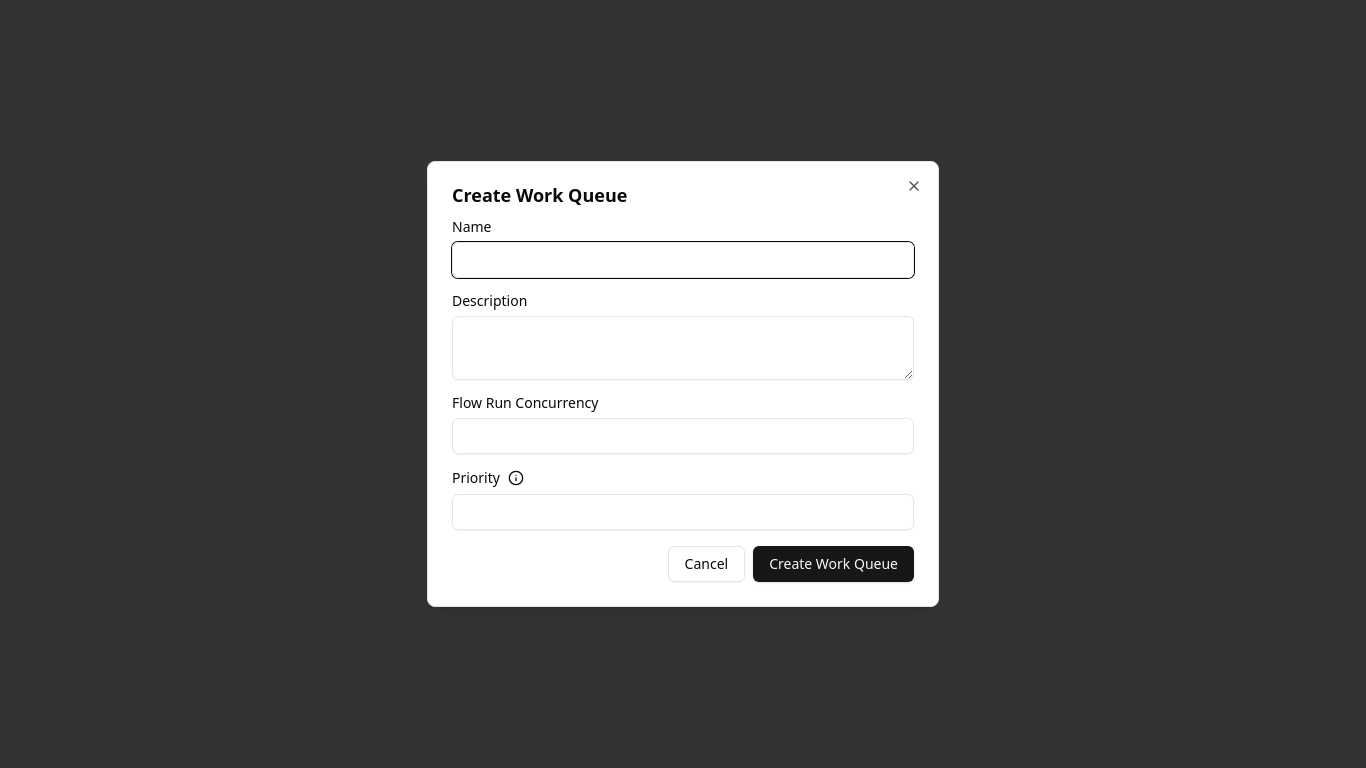
Test: WorkPoolQueueCreateDialog › shows validation error for empty name
Click the button "Create Work Queue".
click(834, 564)  # box 753,546 -> 914,582
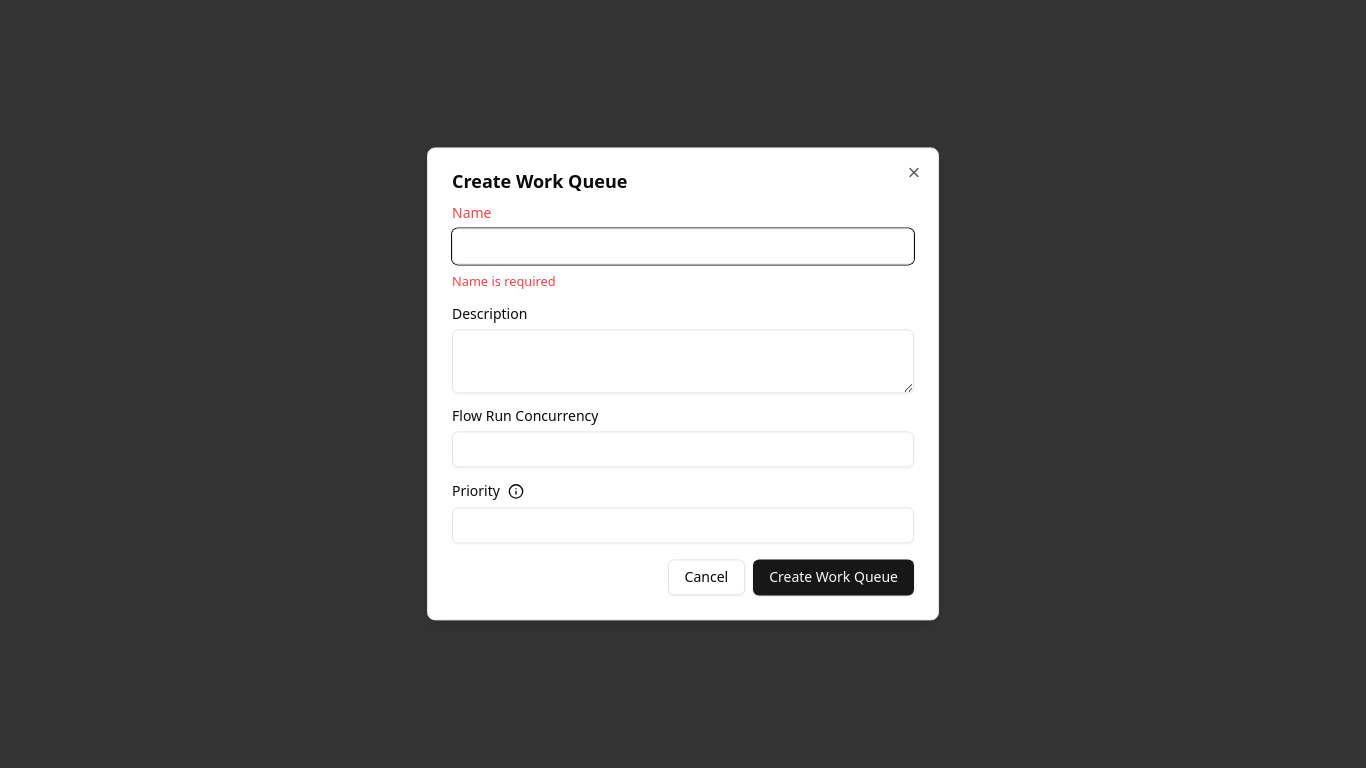
Expected: the text "Name is required" is shown, 452,272 -> 556,290
